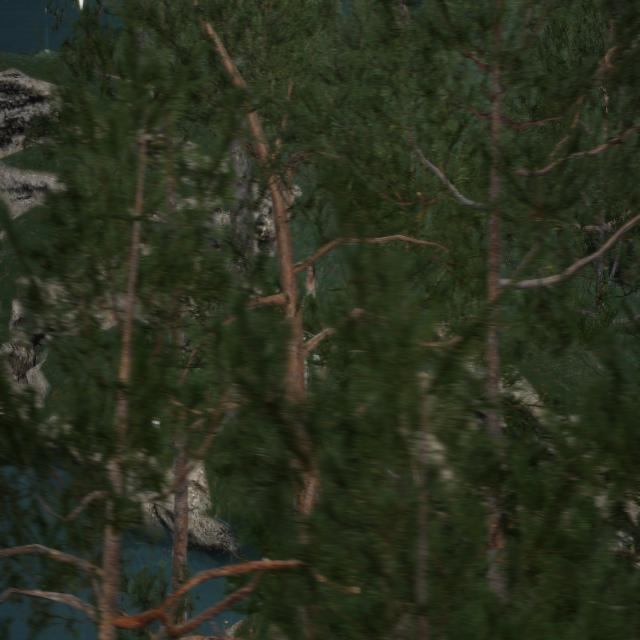Human: (290, 243, 324, 357)
